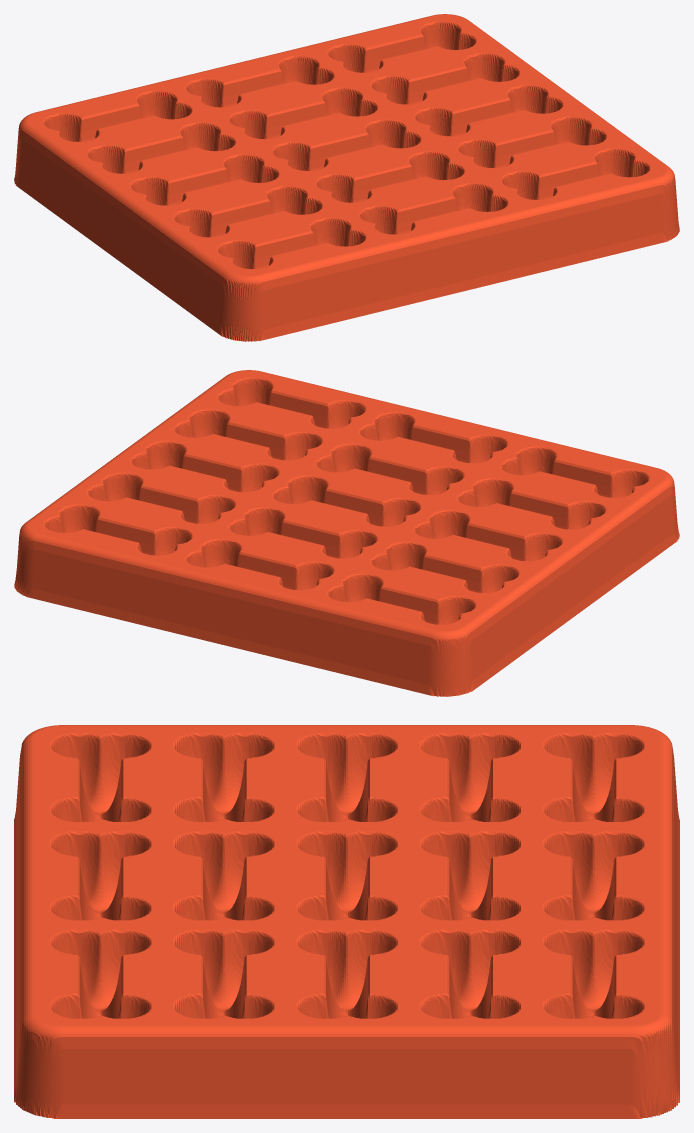
Rendered from mold.glb.
3 views of the same model, one above another, from view 1: azimuth 30°, elevation 25°; view 2: azimuth 150°, elevation 25°; view 3: azimuth 270°, elevation 25° (orthographic). The views are drawn at different scales.
Parts seen in each view (by area): view 1: geometry_0; view 2: geometry_0; view 3: geometry_0.
Part boxes in pixels (left/top/right/bottom): geometry_0: left=14, top=14, right=679, bottom=341; geometry_0: left=14, top=370, right=679, bottom=696; geometry_0: left=14, top=725, right=679, bottom=1118.
Bounding box in the file's own units: 0.1392 × 0.0175 × 0.124.
